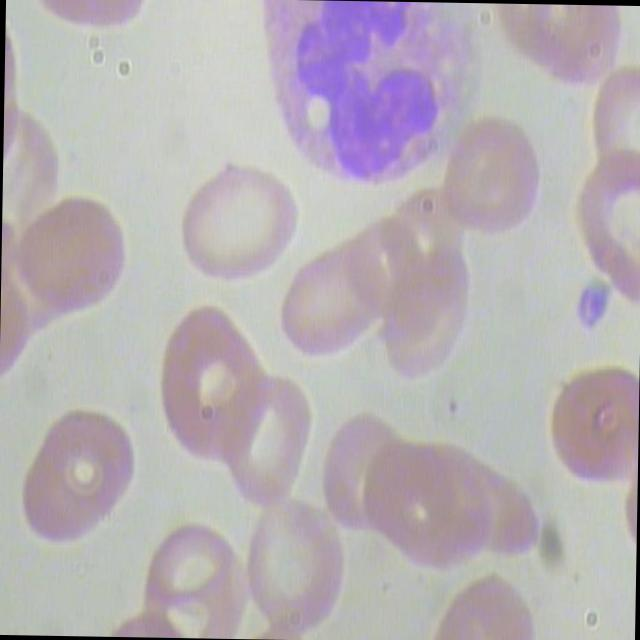Platelets: (566, 276, 619, 334)
RBC: (144, 304, 276, 468), (10, 410, 145, 550), (164, 153, 298, 293), (271, 228, 384, 378), (232, 498, 350, 638), (12, 192, 133, 326), (538, 359, 638, 502), (442, 113, 542, 255), (358, 428, 463, 552), (380, 248, 469, 391)
WBC: (252, 0, 492, 187)
